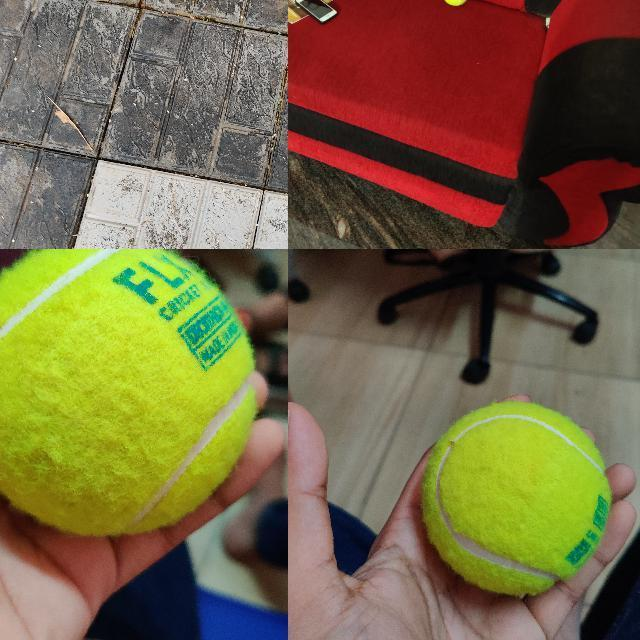tennis-ball: (0, 249, 255, 534), (422, 401, 610, 593), (441, 0, 469, 7)
